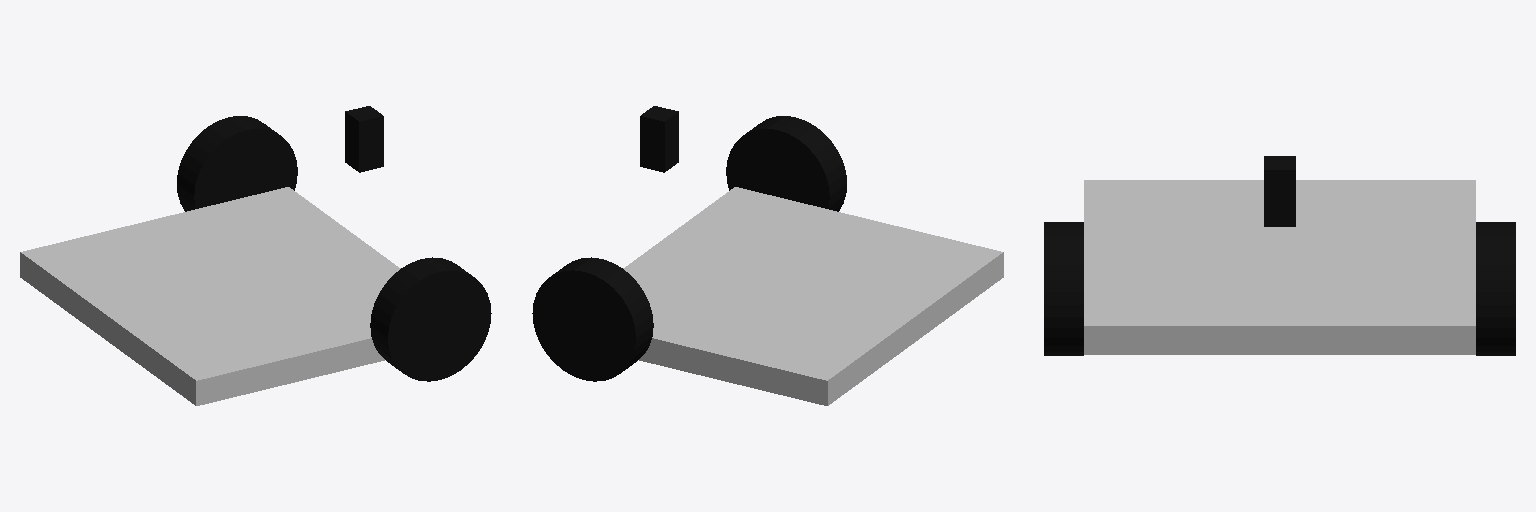
robot.urdf — my_robot:
<?xml version="1.0" ?>
<!-- =================================================================================== -->
<!-- |    This document was autogenerated by xacro from [local-path]/ros2_ws/src/my_robot_bringup/urdf/my_robot.xacro | -->
<!-- |    EDITING THIS FILE BY HAND IS NOT RECOMMENDED                                 | -->
<!-- =================================================================================== -->
<robot name="my_robot">
  <material name="white">
    <color rgba="0.8 0.8 0.8 1"/>
  </material>
  <material name="black">
    <color rgba="0.1 0.1 0.1 1"/>
  </material>
  <!-- ********************** ROBOT BASE *********************************  -->
  <!-- Base Link -->
  <link name="base_link">
    <collision>
      <origin rpy="0 0 0" xyz="0 0 0"/>
      <geometry>
        <box size="0.44 0.5 0.04"/>
      </geometry>
    </collision>
    <visual>
      <origin rpy="0 0 0" xyz="0 0 0"/>
      <geometry>
        <box size="0.44 0.5 0.04"/>
      </geometry>
      <material name="white"/>
    </visual>
    <inertial>
      <origin rpy="0 0 0" xyz="0 0 0"/>
      <mass value="1.0"/>
      <inertia ixx="0.020966666666666665" ixy="0.0" ixz="0.0" iyy="0.016266666666666665" iyz="0.0" izz="0.03696666666666666"/>
    </inertial>
  </link>
  <!-- ****************** ROBOT BASE FOOTPRINT ***************************  -->
  <link name="base_footprint"/>
  <joint name="base_joint" type="fixed">
    <parent link="base_link"/>
    <child link="base_footprint"/>
    <origin rpy="0 0 0" xyz="0 0 -0.045000000000000005"/>
  </joint>
  <!-- ****************** ROBOT WHEELS ***************************  -->
  <joint name="left_wheel_joint" type="continuous">
    <parent link="base_link"/>
    <child link="left_wheel"/>
    <origin rpy="0 0 0" xyz="0.15 0.275 0.04"/>
    <axis xyz="0 1 0"/>
    <dynamics damping="0.2"/>
  </joint>
  <!-- left wheel Link -->
  <link name="left_wheel">
    <collision>
      <origin rpy="1.5707963267948966 0 0" xyz="0 0 0"/>
      <geometry>
        <cylinder length="0.05" radius="0.085"/>
      </geometry>
    </collision>
    <visual>
      <origin rpy="1.5707963267948966 0 0" xyz="0 0 0"/>
      <geometry>
        <cylinder length="0.05" radius="0.085"/>
      </geometry>
      <material name="black"/>
    </visual>
    <inertial>
      <origin rpy="1.5707963267948966 0 0" xyz="0 0 0"/>
      <mass value="1.5"/>
      <inertia ixx="0.0030218750000000003" ixy="0" ixz="0" iyy="0.0030218750000000003" iyz="0" izz="0.005418750000000001"/>
    </inertial>
  </link>
  <joint name="right_wheel_joint" type="continuous">
    <parent link="base_link"/>
    <child link="right_wheel"/>
    <origin rpy="0 0 0" xyz="0.15 -0.275 0.04"/>
    <axis xyz="0 1 0"/>
    <dynamics damping="0.2"/>
  </joint>
  <!-- right wheel Link -->
  <link name="right_wheel">
    <collision>
      <origin rpy="1.5707963267948966 0 0" xyz="0 0 0"/>
      <geometry>
        <cylinder length="0.05" radius="0.085"/>
      </geometry>
    </collision>
    <visual>
      <origin rpy="1.5707963267948966 0 0" xyz="0 0 0"/>
      <geometry>
        <cylinder length="0.05" radius="0.085"/>
      </geometry>
      <material name="black"/>
    </visual>
    <inertial>
      <origin rpy="1.5707963267948966 0 0" xyz="0 0 0"/>
      <mass value="1.5"/>
      <inertia ixx="0.0030218750000000003" ixy="0" ixz="0" iyy="0.0030218750000000003" iyz="0" izz="0.005418750000000001"/>
    </inertial>
  </link>
  <joint name="caster_wheel_joint" type="fixed">
    <parent link="base_link"/>
    <child link="caster_wheel"/>
    <origin rpy="0 0 0" xyz="-0.15 0 -0.01"/>
  </joint>
  <!-- caster wheel Link -->
  <link name="caster_wheel">
    <collision>
      <origin rpy="0 0 0" xyz="0 0 0"/>
      <geometry>
        <sphere radius="0.025"/>
      </geometry>
    </collision>
    <visual>
      <origin rpy="0 0 0" xyz="0 0 0"/>
      <geometry>
        <sphere radius="0.025"/>
      </geometry>
      <material name="black"/>
    </visual>
    <inertial>
      <origin rpy="0 0 0" xyz="0 0 0"/>
      <mass value="0.1"/>
      <inertia ixx="2.500000000000001e-05" ixy="0.0" ixz="0.0" iyy="2.500000000000001e-05" iyz="0.0" izz="2.500000000000001e-05"/>
    </inertial>
  </link>
  <!-- ****************** LASER SENSOR ***************************  -->
  <!-- laser joint -->
  <joint name="laser_joint" type="fixed">
    <parent link="base_link"/>
    <child link="laser"/>
    <origin rpy="0 0 0" xyz="0.200 0.0 0.200 "/>
  </joint>
  <!-- laser Link -->
  <link name="laser">
    <collision>
      <origin rpy="0 0 0" xyz="0 0 0"/>
      <geometry>
        <box size="0.040 0.040 0.080"/>
      </geometry>
    </collision>
    <visual>
      <origin rpy="0 0 0" xyz="0 0 0"/>
      <geometry>
        <box size="0.040 0.040 0.080"/>
      </geometry>
      <material name="black"/>
    </visual>
  </link>
  <!-- ****************** IMU SENSOR ***************************  -->
  <!-- imu joint -->
  <joint name="imu_joint" type="fixed">
    <parent link="base_link"/>
    <child link="imu"/>
    <origin rpy="0 0 0" xyz="0.15 0.0 0.0 "/>
  </joint>
  <!-- imu Link -->
  <link name="imu">
    <collision>
      <origin rpy="0 0 0" xyz="0 0 0"/>
      <geometry>
        <box size="0.040 0.040 0.020"/>
      </geometry>
    </collision>
    <visual>
      <origin rpy="0 0 0" xyz="0 0 0"/>
      <geometry>
        <box size="0.040 0.040 0.020"/>
      </geometry>
      <material name="black"/>
    </visual>
  </link>
</robot>

--- What the picture shows (computed from the rendered views, not written in the file) ---
The picture shows the robot from 3 angles, left to right: view 1: azimuth 30°, elevation 25°; view 2: azimuth 150°, elevation 25°; view 3: azimuth 270°, elevation 25°; orthographic projection.
Model my_robot with 7 links and 6 joints (2 continuous, 4 fixed), rooted at base_link, posed all joints at 0.
Visible links, largest first — view 1: base_link, right_wheel, left_wheel, laser; view 2: base_link, left_wheel, right_wheel, laser; view 3: base_link, left_wheel, right_wheel, laser.
Link boxes in pixels (left/top/right/bottom): base_link: left=20, top=187, right=400, bottom=405; right_wheel: left=370, top=257, right=491, bottom=381; left_wheel: left=177, top=116, right=297, bottom=211; laser: left=345, top=106, right=383, bottom=172; base_link: left=623, top=187, right=1003, bottom=405; left_wheel: left=532, top=257, right=653, bottom=381; right_wheel: left=726, top=116, right=846, bottom=211; laser: left=640, top=106, right=678, bottom=172; base_link: left=1084, top=180, right=1475, bottom=354; left_wheel: left=1476, top=222, right=1515, bottom=355; right_wheel: left=1044, top=222, right=1083, bottom=355; laser: left=1264, top=156, right=1295, bottom=226.
Size in the robot's own frame: 0.455 by 0.6 by 0.285 metres.
Geometry: primitives only (box / cylinder / sphere), no mesh files.